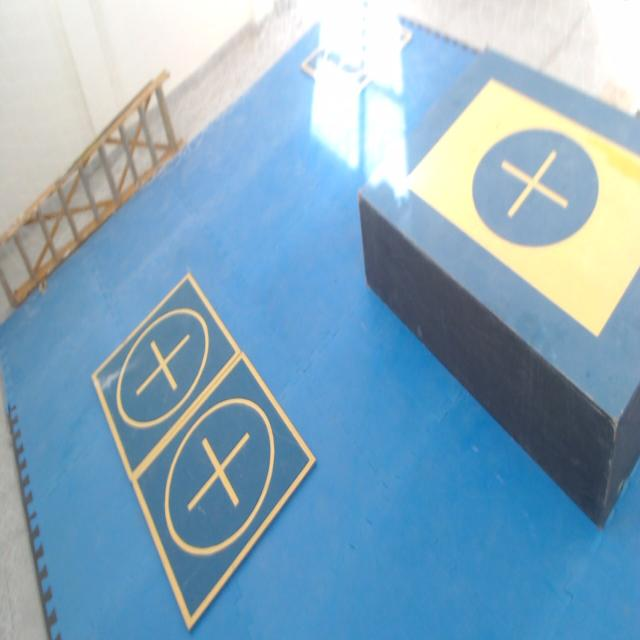base_inicio: (404, 76, 640, 339)
base_pouso: (132, 349, 317, 632), (90, 272, 242, 482), (297, 7, 414, 104)
